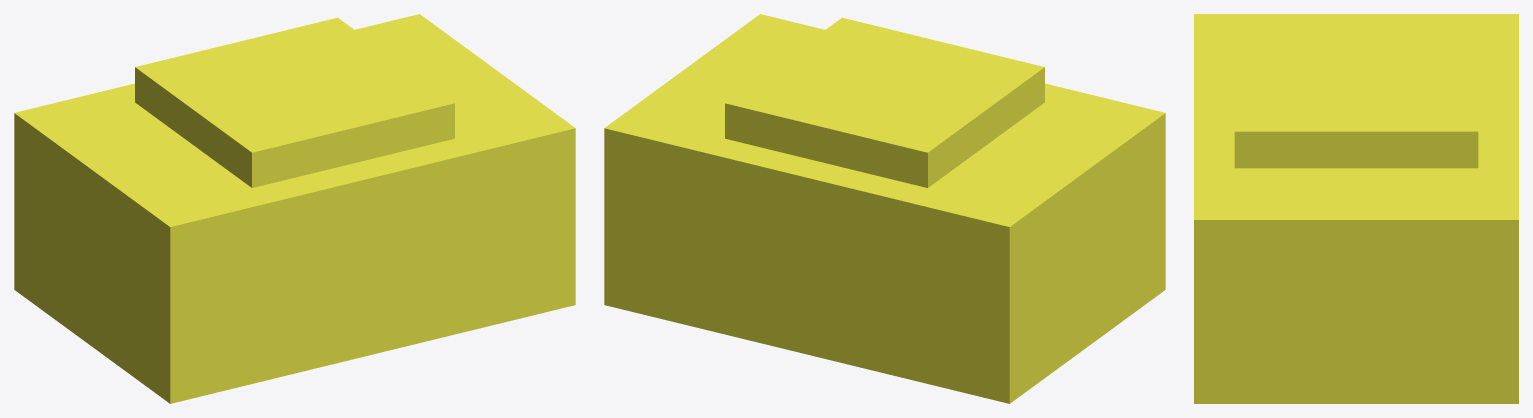
File: Chest028.fbx
3 views of the same model, side by side, from view 1: azimuth 30°, elevation 25°; view 2: azimuth 150°, elevation 25°; view 3: azimuth 270°, elevation 25° (orthographic). The views are drawn at different scales.
Visible parts, largest first — view 1: Chest028; view 2: Chest028; view 3: Chest028.
Boxes of the visible parts, x1,y1,x2,y2 form: Chest028: [14, 14, 575, 403]; Chest028: [604, 14, 1165, 403]; Chest028: [1194, 14, 1518, 403].
Bounding box in the file's own units: 12 × 6 × 8.
